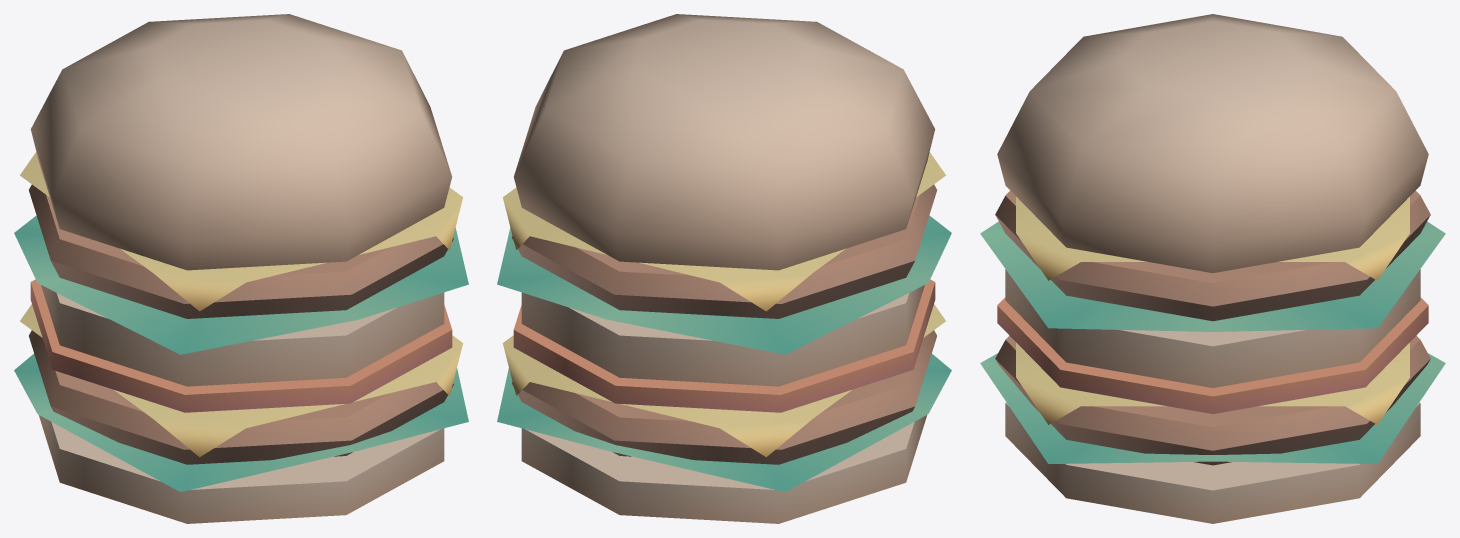
File: burger-double.glb
3 views of the same model, side by side, from view 1: azimuth 30°, elevation 25°; view 2: azimuth 150°, elevation 25°; view 3: azimuth 270°, elevation 25° (orthographic).
Visible parts, largest first — view 1: burger-double; view 2: burger-double; view 3: burger-double.
Boxes of the visible parts, x1,y1,x2,y2 form: burger-double: (14, 14, 468, 523); burger-double: (497, 14, 951, 523); burger-double: (980, 14, 1445, 523).
Size of the model in its own units: 0.4041 by 0.36 by 0.4041.
